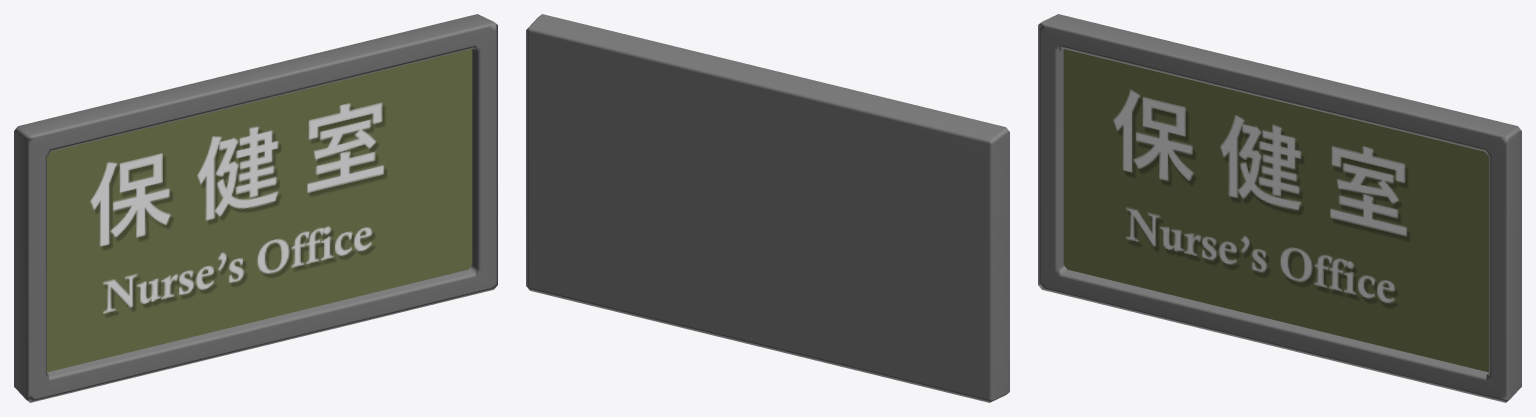
Rendered from SM_sign_nurseoffice.fbx.
The picture shows the model from 3 angles, left to right: view 1: azimuth 30°, elevation 25°; view 2: azimuth 150°, elevation 25°; view 3: azimuth 330°, elevation 25°; orthographic projection.
Parts seen in each view (by area): view 1: sign_roomname04; view 2: sign_roomname04; view 3: sign_roomname04.
Boxes of the visible parts, bbox=[...] form: sign_roomname04: bbox=[14, 14, 497, 402]; sign_roomname04: bbox=[526, 14, 1009, 402]; sign_roomname04: bbox=[1038, 14, 1521, 402].
Bounding box in the file's own units: 28.58 × 15.52 × 1.67.
Materials: 2 (1 with a texture image).
